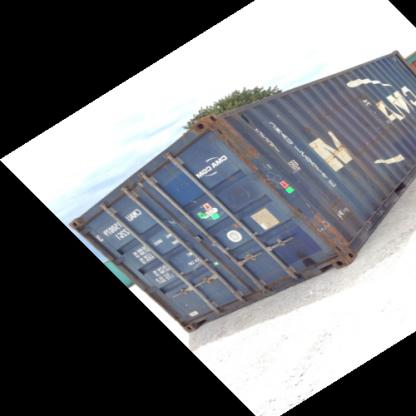Damage: (209, 120, 288, 196), (292, 202, 355, 268), (353, 124, 401, 155), (318, 90, 374, 116), (368, 182, 390, 214), (323, 140, 350, 160)
